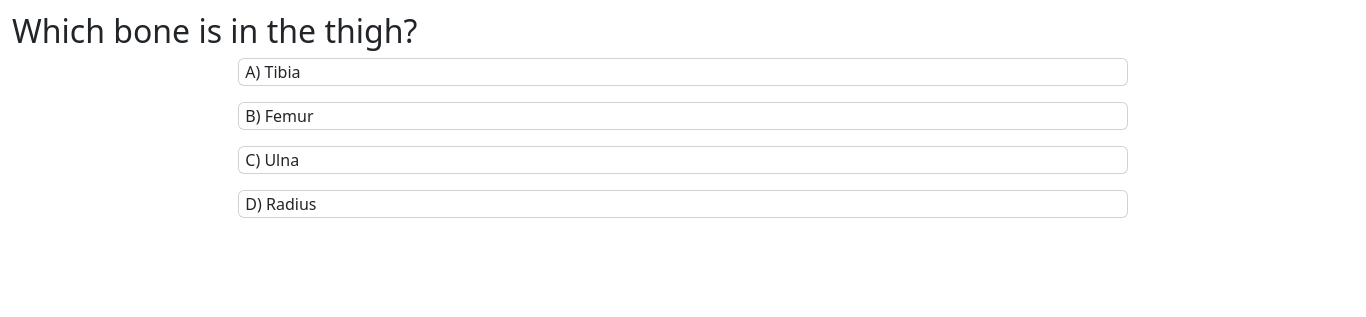
Question page › shows the fallback save error when the API does not send a detail message
The width and height of the screenshot is (1366, 317).
Click the button "B) Femur": (289,116) [238,102,1128,130]
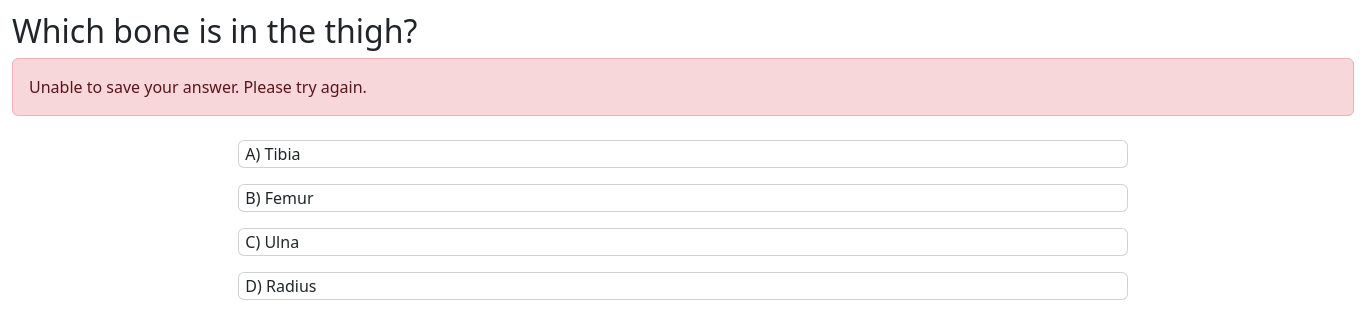
Now the text "Unable to save your answer. Please try again." is shown, box [12,58,1354,116]
